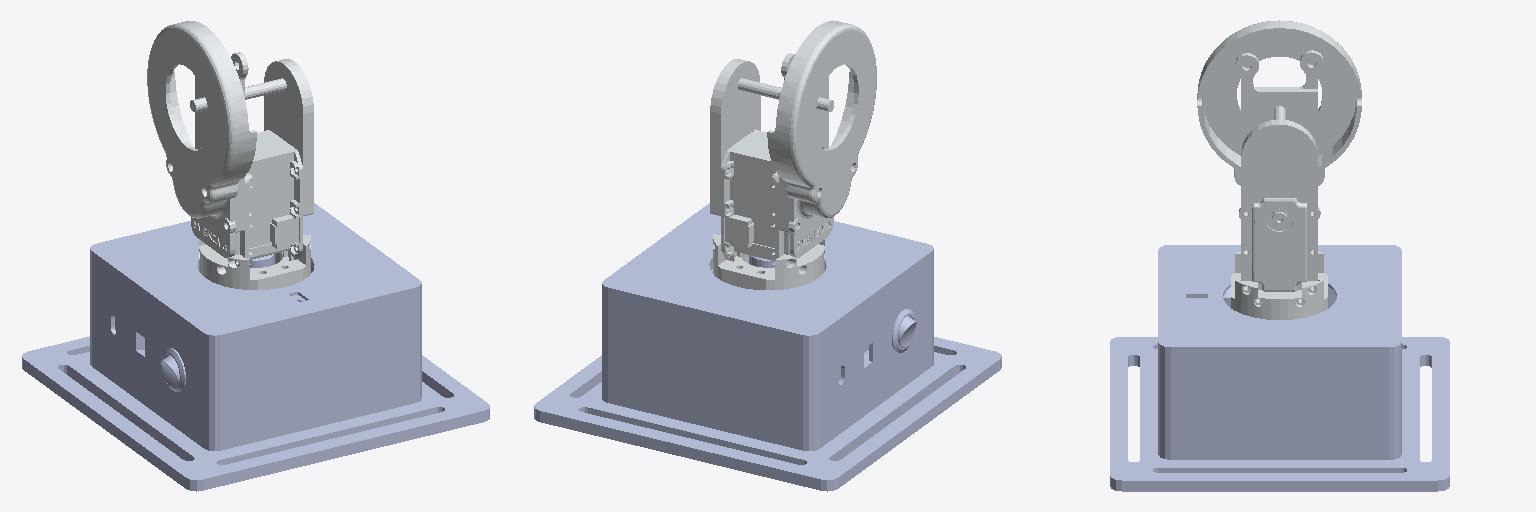
URDF robot description (revel):
<robot
  name="revel">
  <link
    name="base_link">
    <inertial>
      <origin
        xyz="-0.0023730528889142 -0.00502093782805647 0.0237603120106106"
        rpy="0 0 0" />
      <mass
        value="0.774961748747901" />
    <inertia
        ixx="0.00201866828203214"
        ixy="-1.40341741820078E-05"
        ixz="5.0229742322277E-06"
        iyy="0.00196560351814595"
        iyz="2.49903357518308E-05"
        izz="0.00317820785242523" />
    </inertial>

    <visual>
      <origin
        xyz="0 0 0"
        rpy="0 0 0" />
      <geometry>
        <mesh
          filename="package://4_25_urdf6/meshes/base_link.STL" />
      </geometry>
      <material
        name="">
        <color
          rgba="0.792156862745098 0.819607843137255 0.933333333333333 1" />
      </material>
    </visual>
    <collision>
      <origin
        xyz="0 0 0"
        rpy="0 0 0" />
      <geometry>
        <mesh
          filename="package://4_25_urdf6/meshes/base_link.STL" />
      </geometry>
    </collision>
  </link>

  <link
    name="link_1">
    <inertial>
      <origin
        xyz="-1.5879447236338E-05 -0.00709916492149038 0.0638496557944277"
        rpy="0 0 0" />
      <mass
        value="0.29849024" />
      <inertia
        ixx="0.000632049493639531"
        ixy="4.97008463061611E-09"
        ixz="-3.22891235511891E-07"
        iyy="0.000568859462204089"
        iyz="5.38876127197549E-05"
        izz="0.000140153748296134" />
    </inertial>
    <visual>
      <origin
        xyz="0 0 0"
        rpy="0 0 0" />
      <geometry>
        <mesh
          filename="package://4_25_urdf6/meshes/link_1.STL" />
      </geometry>
      <material
        name="">
        <color
          rgba="0.898039215686275 0.917647058823529 0.929411764705882 1" />
      </material>
    </visual>
    <collision>
      <origin
        xyz="0 0 0"
        rpy="0 0 0" />
      <geometry>
        <mesh
          filename="package://4_25_urdf6/meshes/link_1.STL" />
      </geometry>
    </collision>
  </link>
  <joint
    name="joint_1"
    type="revolute">
    <origin
      xyz="0 0 0.06485"
      rpy="0 0 -1.5708" />
    <parent
      link="base_link" />
    <child
      link="link_1" />
    <axis
      xyz="0 0 1" />
    <limit
      lower="-3.14"
      upper="3.14"
      effort="30"
      velocity="1.0" />
  </joint>

  <transmission name="tran1">
    <type>transmission_interface/SimpleTransmission</type>
    <joint name="joint_1">
      <hardwareInterface>EffortJointInterface</hardwareInterface>
    </joint>
  <actuator name="foo_motor">
    <mechanicalReduction>50</mechanicalReduction>
    <hardwareInterface>EffortJointInterface</hardwareInterface>
  </actuator>
  </transmission>

</robot>

--- Render facts (derived) ---
3 views of the same robot in one strip: view 1: azimuth 30°, elevation 25°; view 2: azimuth 150°, elevation 25°; view 3: azimuth 270°, elevation 25° (orthographic).
Robot: revel — 2 links, 1 joints (1 revolute); root link base_link; default pose: every joint at zero.
Links seen in each view (by area): view 1: base_link, link_1; view 2: base_link, link_1; view 3: base_link, link_1.
Boxes of the visible links, bbox=[...] form: base_link: bbox=[22, 203, 489, 491]; link_1: bbox=[147, 21, 313, 289]; base_link: bbox=[534, 203, 1001, 491]; link_1: bbox=[710, 20, 876, 289]; base_link: bbox=[1110, 245, 1449, 491]; link_1: bbox=[1197, 20, 1361, 319].
Bounding box of the posed robot: 0.1778 × 0.1778 × 0.2122 m (x, y, z).
Meshes: 2 distinct files referenced, 2 mesh visuals loaded (2 binary STL).
